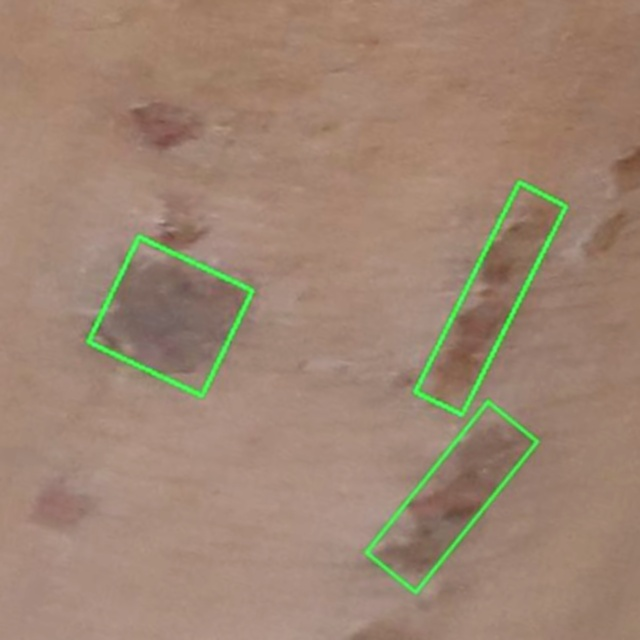Contact Dermatitis: (414, 182, 565, 415), (366, 402, 537, 592), (87, 236, 252, 397)
